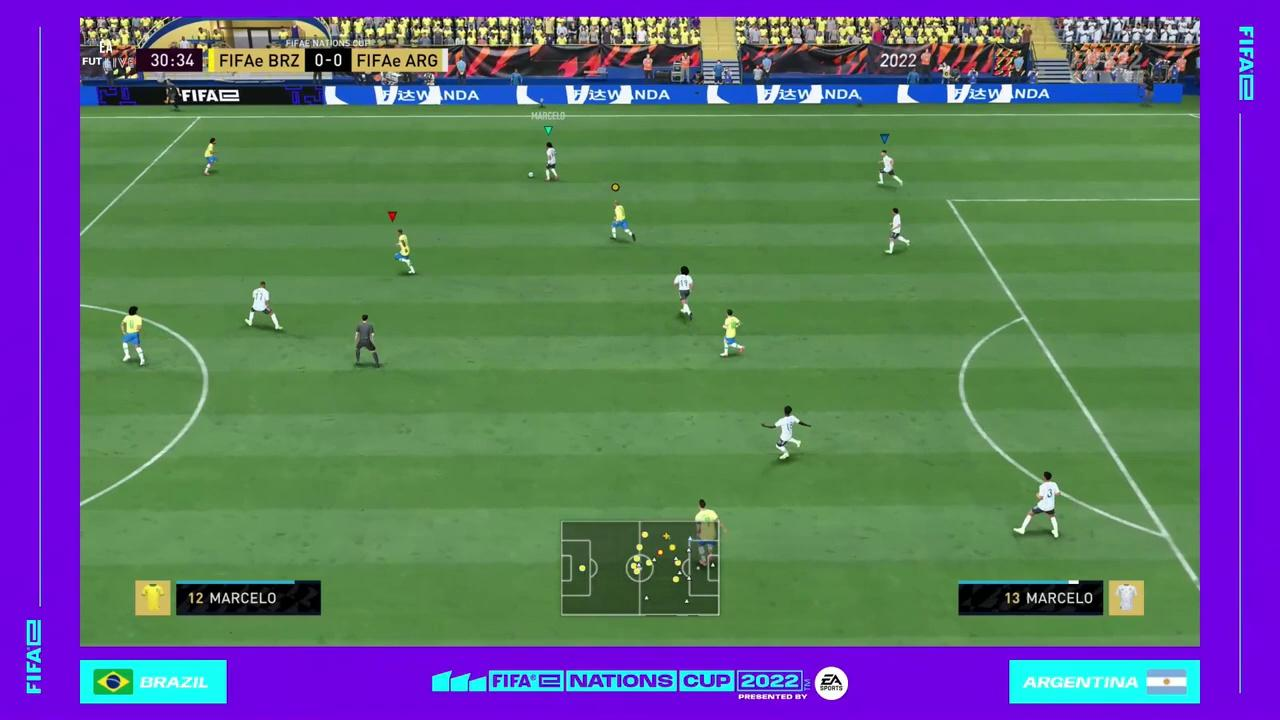scoreboard: (207, 46, 448, 74)
timestamp: (139, 48, 204, 76)
